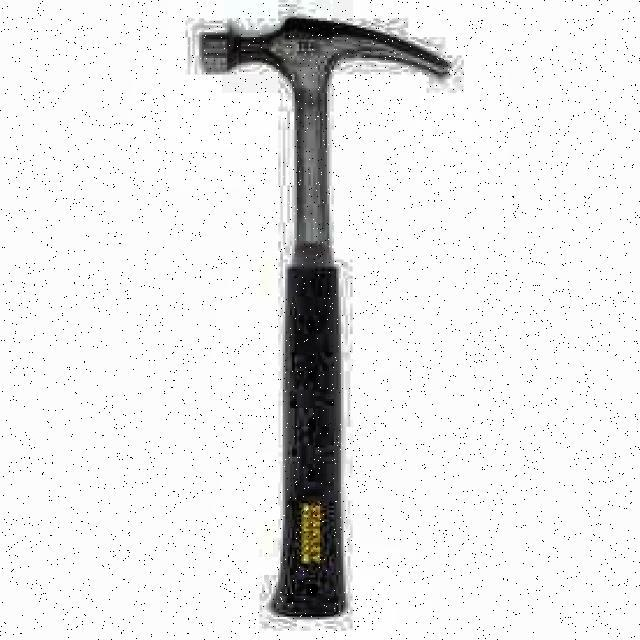hammer: (198, 12, 460, 624)
